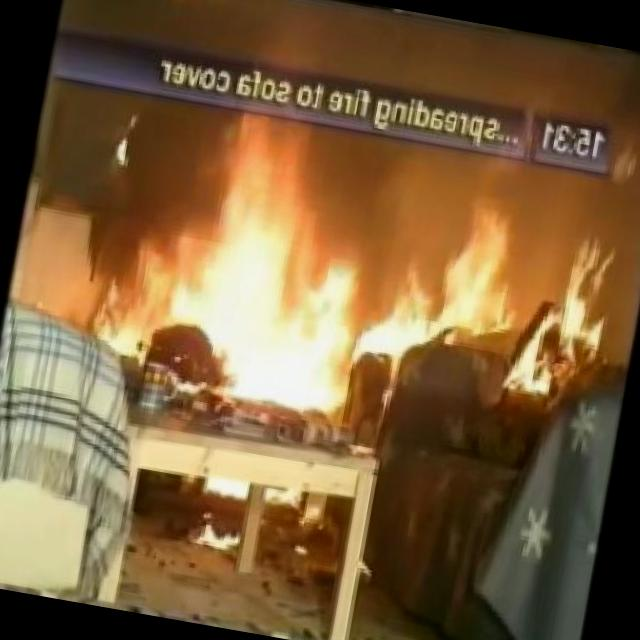fire: (117, 130, 524, 453)
